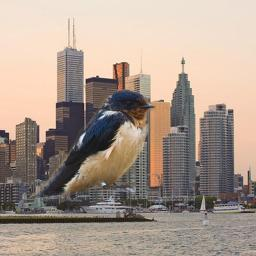Swallow: (30, 88, 157, 200)
